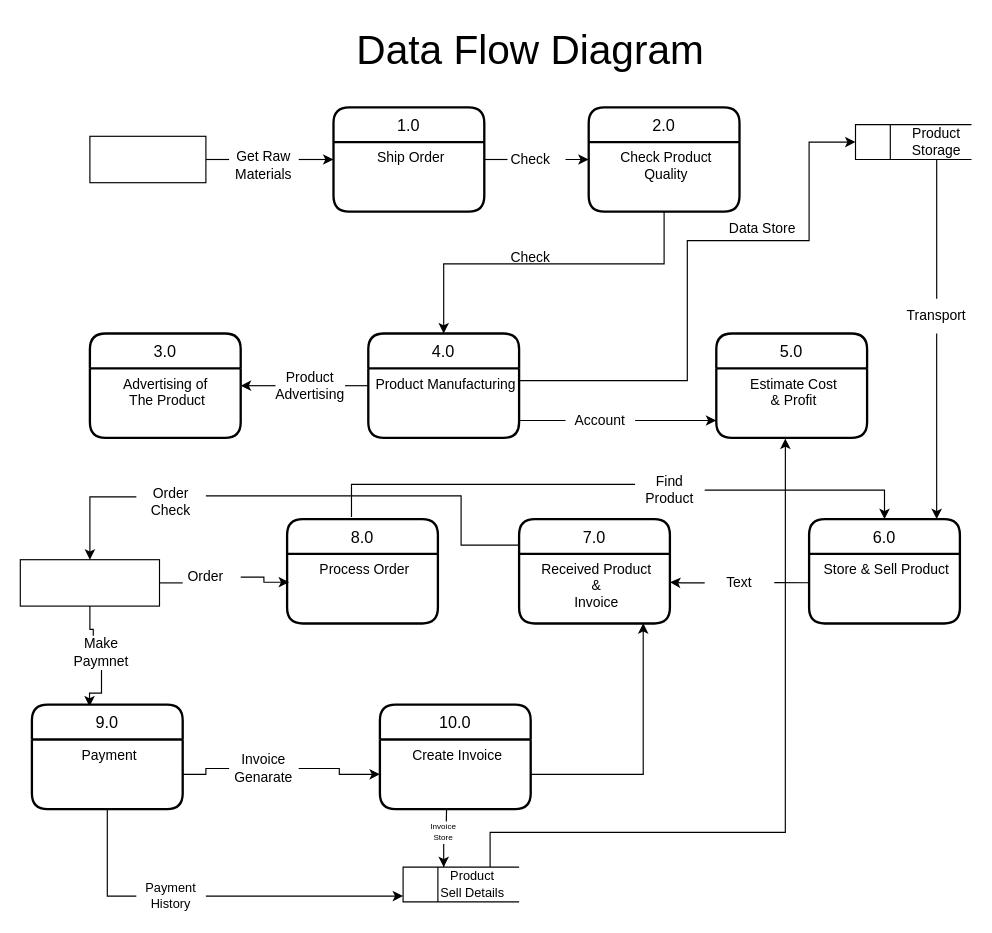
The diagram is 992 pixels wide and 933 high, and some of its shapes have lost their labels. The shapes that lost their labels are listed below. From the top down, each one's box as (x1, y1, x2, y2) in pixels, then its label:
(89, 135, 206, 183): Raw Materials
(854, 124, 971, 160): D1
(19, 559, 160, 606): Customer
(402, 866, 519, 902): D2
